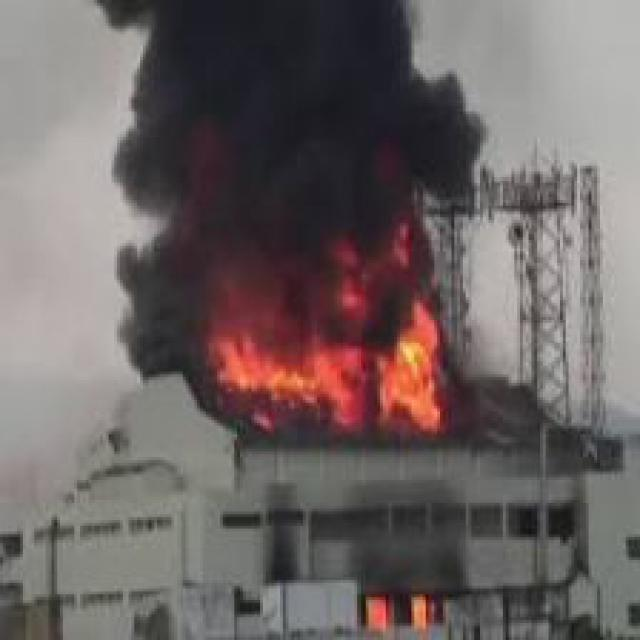fire: (166, 203, 457, 446)
